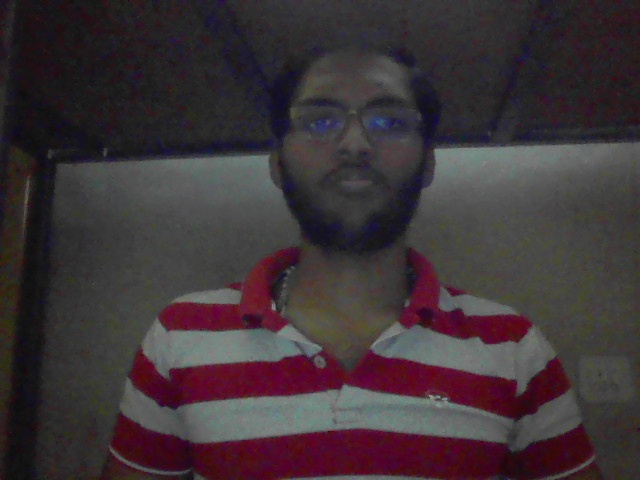Neutral: (209, 36, 490, 327)
